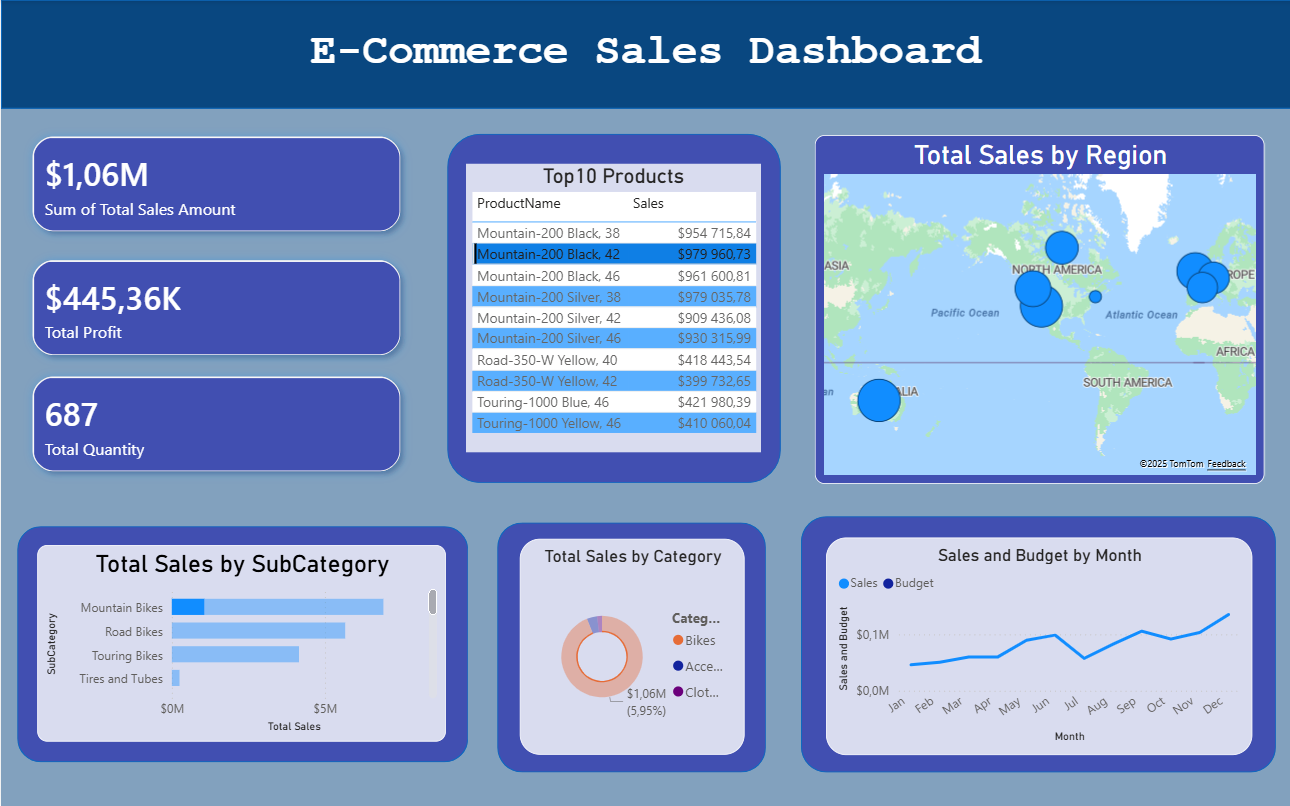

The dashboard page shown, as its layout file describes it:
{"tool":"powerbi","page":{"name":"Page 1","canvas":[1280,800],"ordinal":0},"visuals":[{"type":"shape","box":[0,0,1280.4,107.9],"z":0},{"type":"shape","box":[15.6,521.9,447.6,234.2],"z":1000},{"type":"clusteredBarChart","fields":{"Category":["Product.SubCategory"],"Y":["Sales.Total Sales"]},"box":[36.4,541.5,405.9,195.2],"z":2000},{"type":"azureMap","fields":{"Category":["Territories.Region"],"Size":["Sales.Total Sales"]},"box":[807.7,134,446.7,346.2],"z":3000},{"type":"cardVisual","fields":{"Data":["Sum(Sales.Total Sales Amount)"]},"box":[2,106.5,423.1,152.6],"z":4000},{"type":"cardVisual","fields":{"Data":["Sales.Total Profit"]},"box":[2,229.7,423.1,152.6],"z":5000},{"type":"shape","box":[794,512.4,471.5,254.3],"z":6000},{"type":"cardVisual","fields":{"Data":["Sales.Total Quantity"]},"box":[2,344.8,423.1,152.6],"z":7000},{"type":"lineChart","fields":{"Y":["Sales.Sales","Budget.Budget"],"Category":["Calendar.Month"]},"box":[818.9,533.5,423.1,215.9],"z":8000},{"type":"shape","box":[492.3,519.1,266.8,248.1],"z":9000},{"type":"donutChart","fields":{"Category":["Product.Category"],"Y":["Sales.Total Sales"]},"box":[514.6,535.2,223.3,214.6],"z":10000},{"type":"textbox","box":[0,22.3,1280.4,65.8],"z":11000},{"type":"shape","box":[442.5,133.4,331.1,346.8],"z":12000},{"type":"tableEx","title":"Top10 Products","fields":{"Values":["Product.ProductName","Sales.Sales"]},"box":[461.5,162.5,292.8,286.6],"z":13000}]}

Visuals, with their boxes in screenshot pixels (x1, y1, x2, y2), scaled from the page's 1280x800 canvas onto the 1290x806 screenshot:
shape: (left=0, top=0, right=1289, bottom=109)
shape: (left=16, top=526, right=467, bottom=762)
clusteredBarChart - Product.SubCategory x Sales.Total Sales: (left=37, top=546, right=446, bottom=742)
azureMap - Territories.Region x Sales.Total Sales: (left=814, top=135, right=1264, bottom=484)
cardVisual - Sum(Sales.Total Sales Amount): (left=2, top=107, right=428, bottom=261)
cardVisual - Sales.Total Profit: (left=2, top=231, right=428, bottom=385)
shape: (left=800, top=516, right=1275, bottom=772)
cardVisual - Sales.Total Quantity: (left=2, top=347, right=428, bottom=501)
lineChart - Sales.Sales x Budget.Budget: (left=825, top=538, right=1252, bottom=755)
shape: (left=496, top=523, right=765, bottom=773)
donutChart - Product.Category x Sales.Total Sales: (left=519, top=539, right=744, bottom=755)
textbox: (left=0, top=22, right=1289, bottom=89)
shape: (left=446, top=134, right=780, bottom=484)
"Top10 Products" tableEx: (left=465, top=164, right=760, bottom=452)
